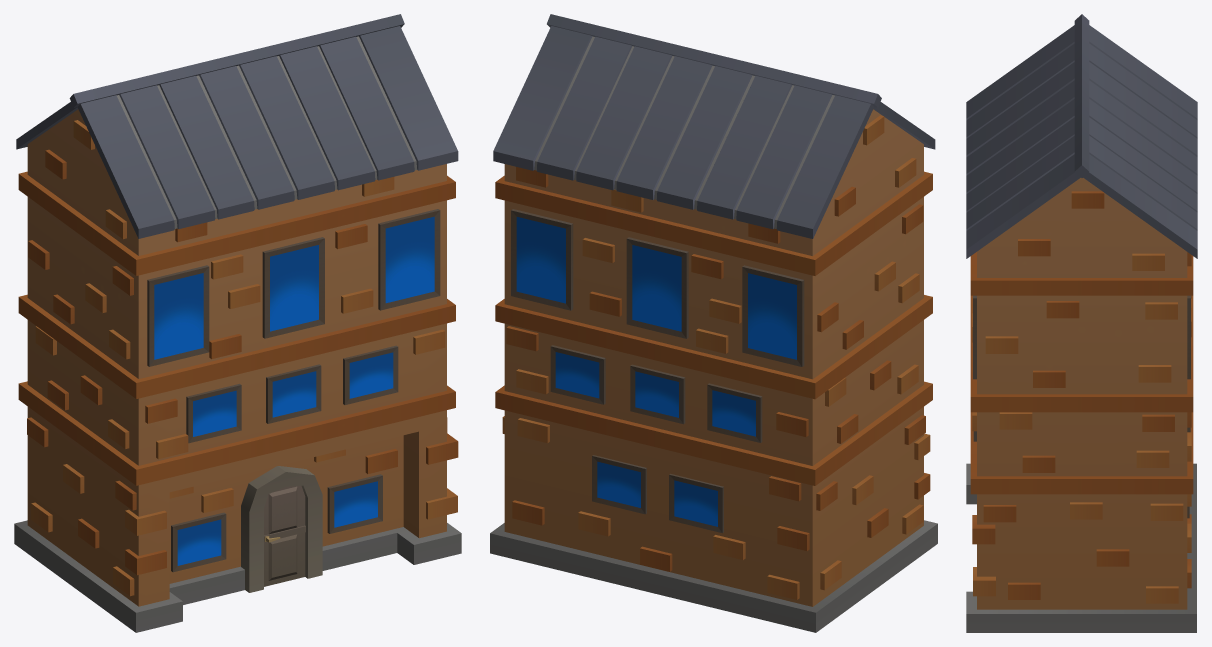
Rendered from SM_House_17.FBX.
The picture shows the model from 3 angles, left to right: view 1: azimuth 30°, elevation 25°; view 2: azimuth 150°, elevation 25°; view 3: azimuth 270°, elevation 25°; orthographic projection. The views are drawn at different scales.
Visible parts, largest first — view 1: SM_House_17; view 2: SM_House_17; view 3: SM_House_17.
Part boxes in pixels (x1=…): SM_House_17: x1=14, y1=14, x2=461, y2=632; SM_House_17: x1=490, y1=14, x2=937, y2=632; SM_House_17: x1=966, y1=14, x2=1197, y2=632.
Size of what is drawn, in the model's own units: 765 by 495 by 1105.
